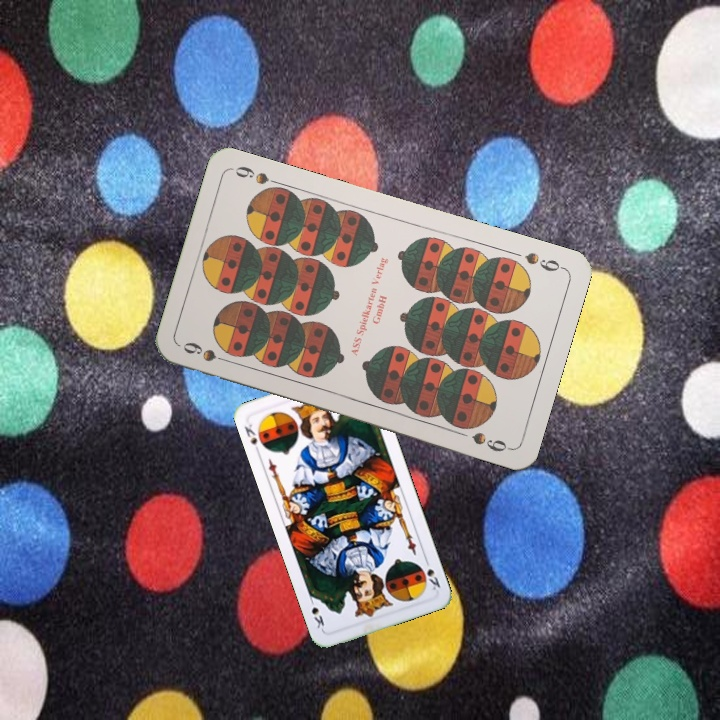S9: (178, 338, 236, 367), (520, 248, 567, 274)
SK: (421, 554, 443, 593), (240, 420, 263, 456)
